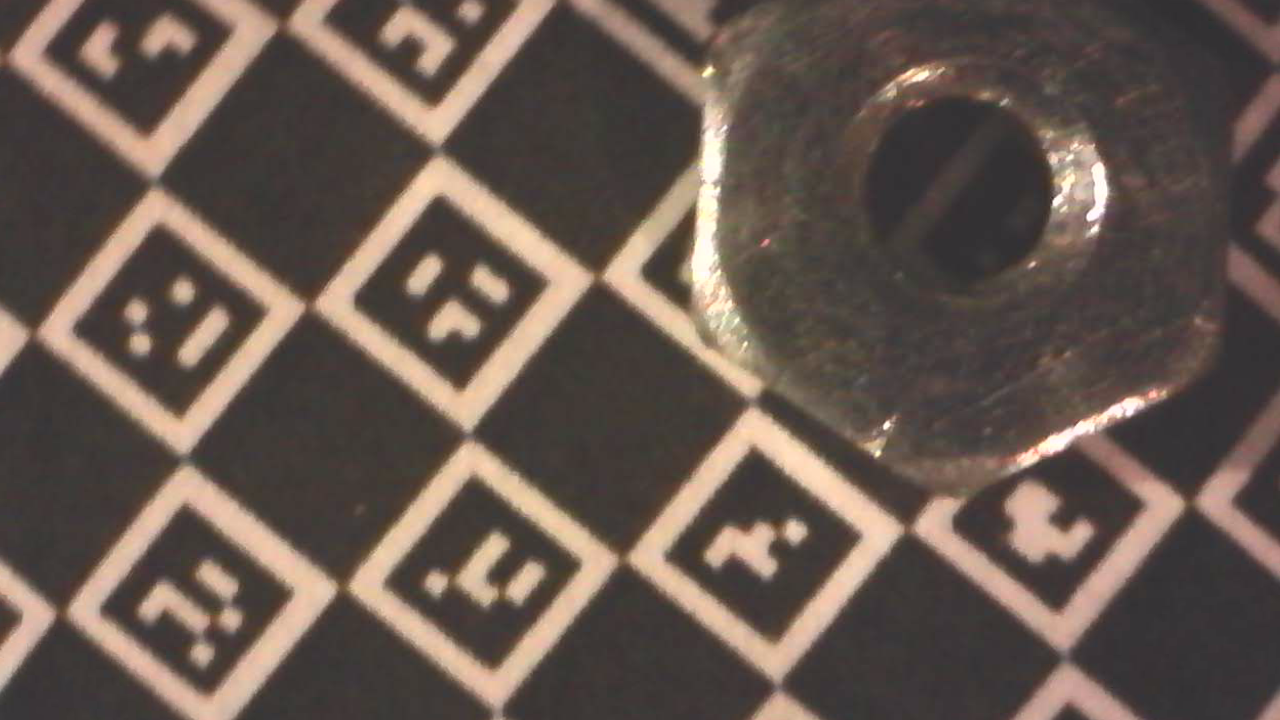Bolt: (692, 0, 1235, 502)
